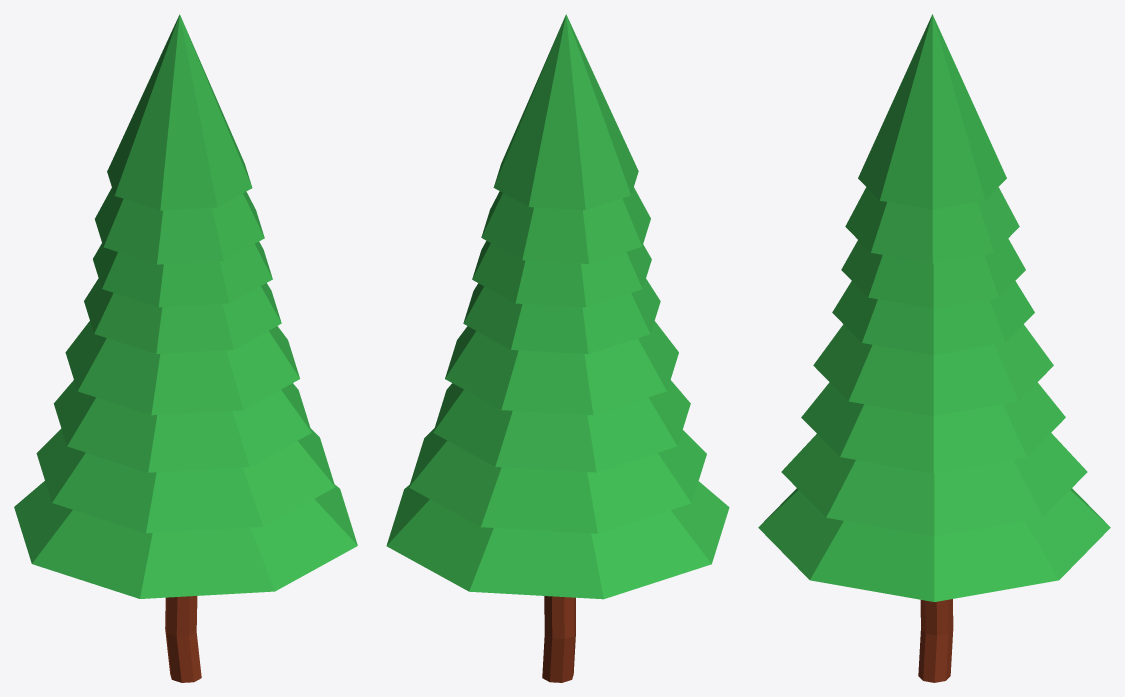
File: splitTree.003.fbx
3 views of the same model, side by side, from view 1: azimuth 30°, elevation 25°; view 2: azimuth 150°, elevation 25°; view 3: azimuth 270°, elevation 25° (orthographic).
Parts seen in each view (by area): view 1: Tree.000, Tree.010; view 2: Tree.000, Tree.010; view 3: Tree.000, Tree.010.
Boxes of the visible parts, box(x1,y1,x2,y2) form: Tree.000: box(14, 14, 357, 598); Tree.010: box(165, 596, 201, 682); Tree.000: box(386, 14, 729, 599); Tree.010: box(542, 596, 575, 682); Tree.000: box(758, 14, 1110, 601); Tree.010: box(918, 599, 953, 682).
Bounding box in the file's own units: 436 × 898 × 436.
